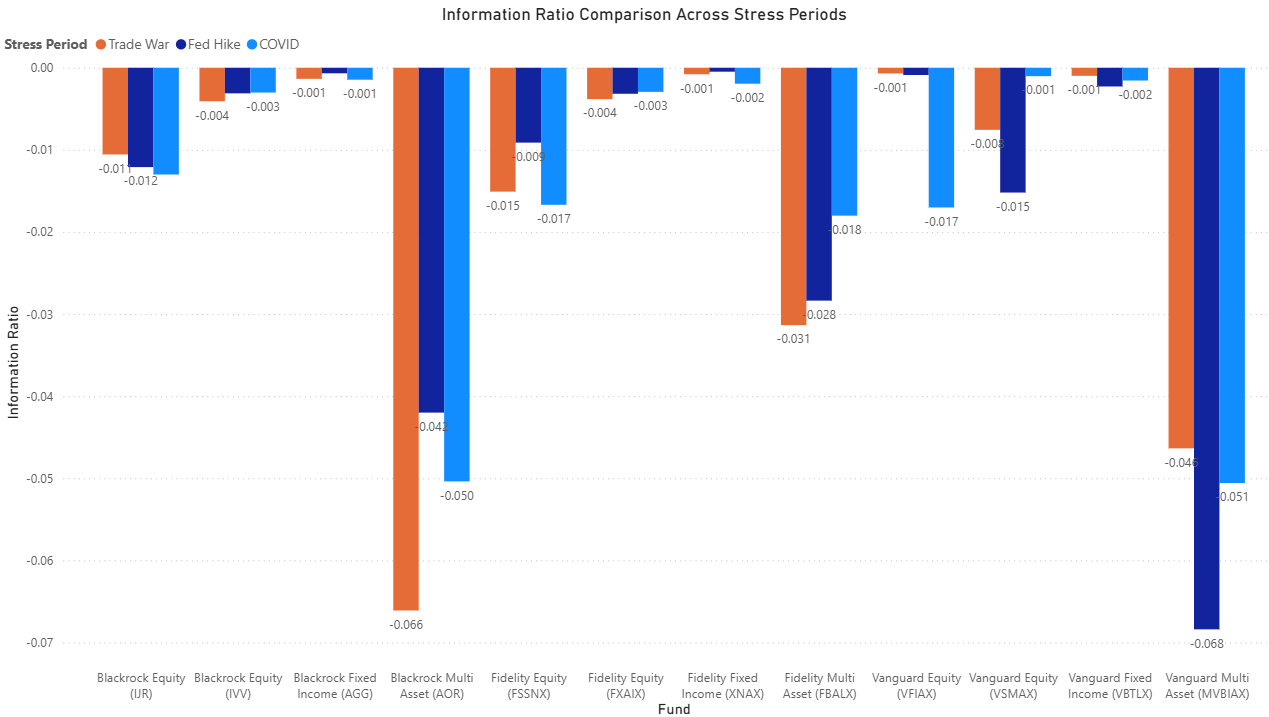

Layout of this report page (visuals, bound fields, positions):
{"tool":"powerbi","page":{"name":"Information Ratio Comparison Across Stress Periods","canvas":[1280,720],"ordinal":5},"visuals":[{"type":"clusteredColumnChart","title":"Information Ratio Comparison Across Stress Periods","fields":{"Category":["Stress period Summary.Fund"],"Series":["Stress period Summary.Stress Period"],"Y":["Avg(Stress period Summary.Information Ratio)"]},"box":[11.7,9.7,1255.7,699.3],"z":0}]}

Visuals, with their boxes in screenshot pixels (x1, y1, x2, y2), scaled from the page's 1280x720 canvas onto the 1269x717 screenshot:
"Information Ratio Comparison Across Stress Periods" clusteredColumnChart: x1=12 y1=10 x2=1257 y2=706
